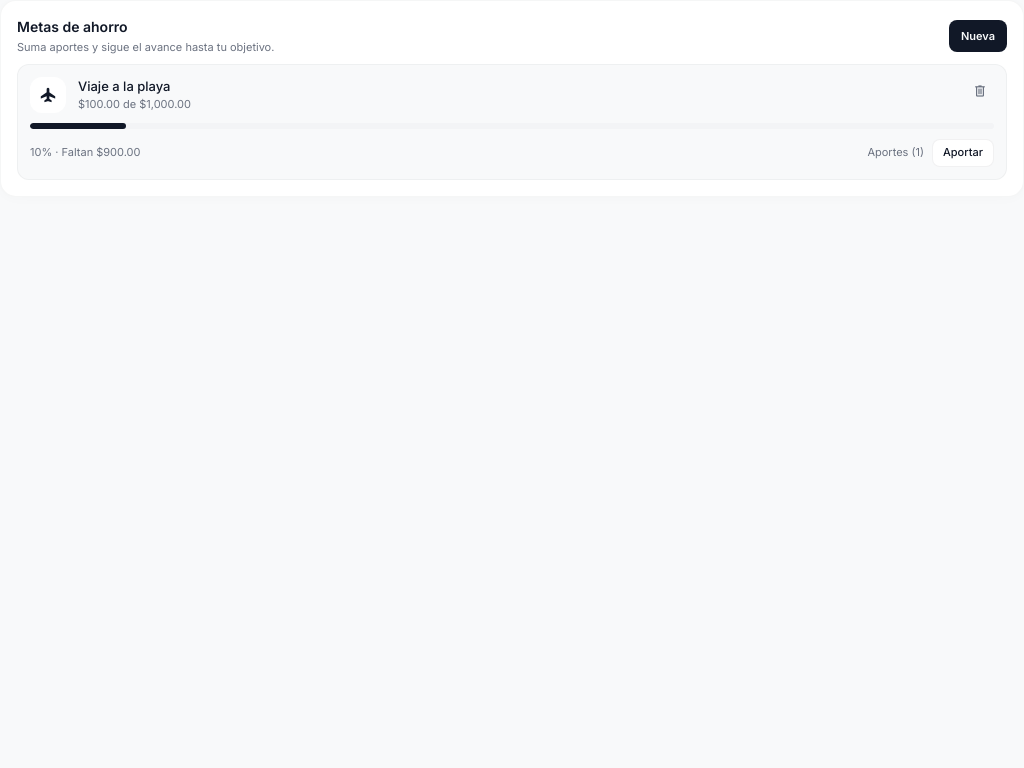
Scenario: SavingsGoalsSection › muestra y elimina los aportes de una meta
The image size is (1024, 768).
Expected: the text "Viaje a la playa" is shown, [78,78,170,94]
What coordinates should you click on to do the following:
click the button with aria-label "Ver aportes de Viaje a la playa"
I would click on:
 (896, 153)
Its box is [868,144,924,161].
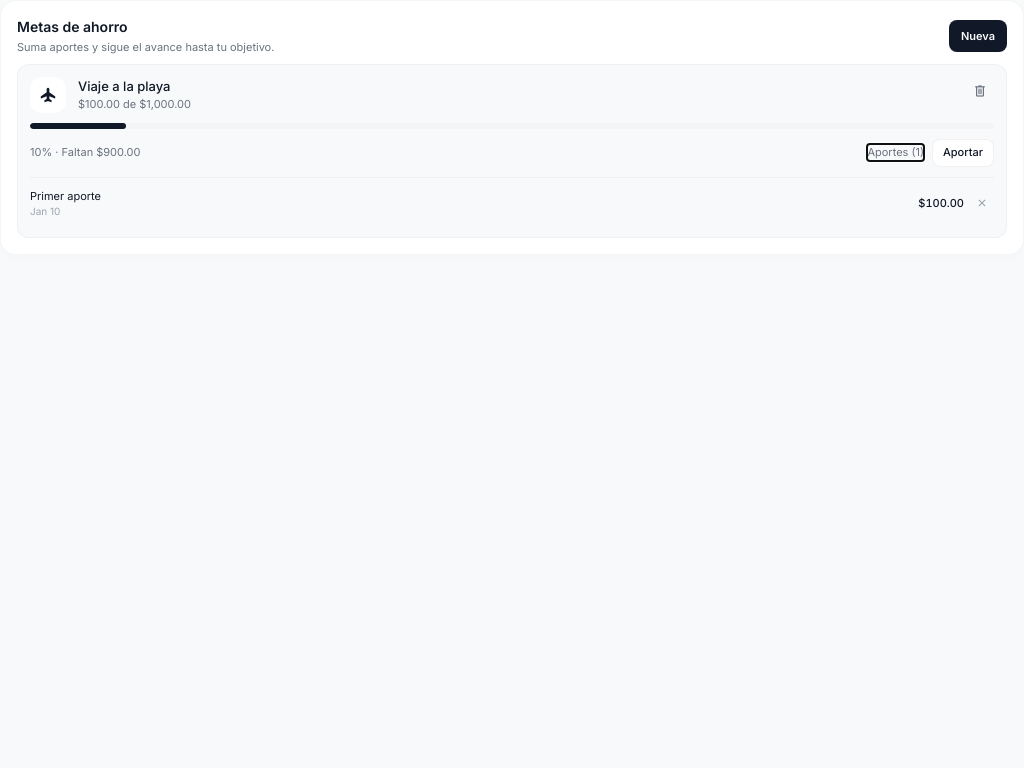
Now the text "Primer aporte" is shown, box [30,188,101,204]
What coordinates should you click on to do the following:
click the button named "Eliminar aporte"
I would click on:
 (982, 203)
Its box is [970,191,994,215].
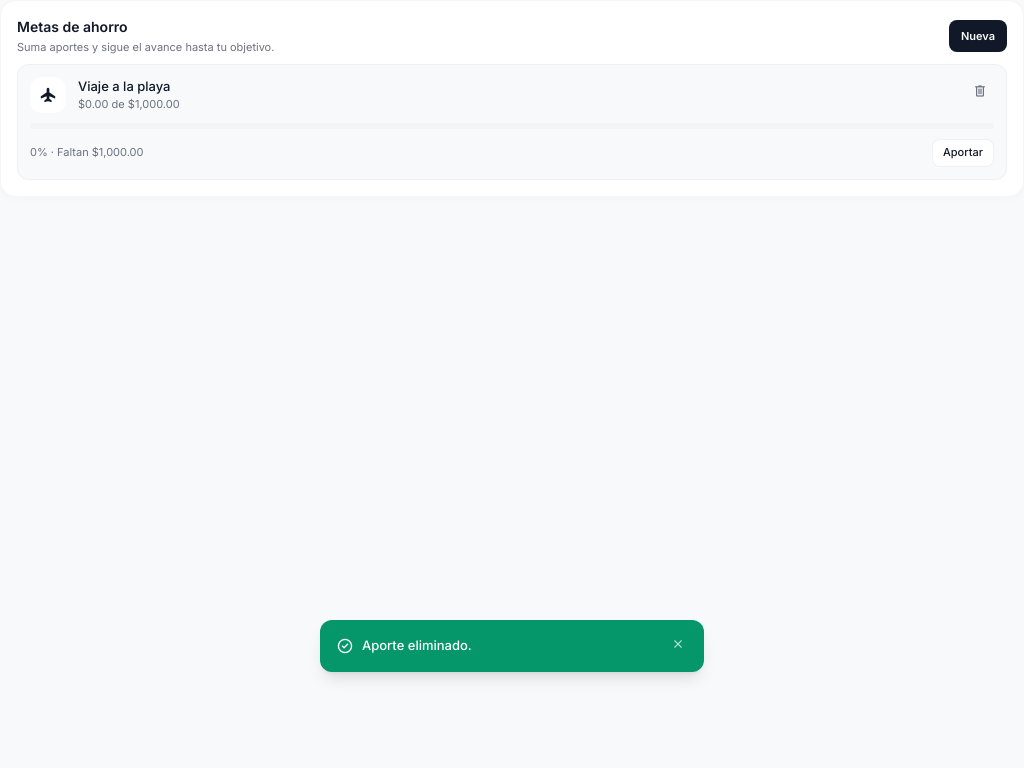
Now the text "Primer aporte" is gone
